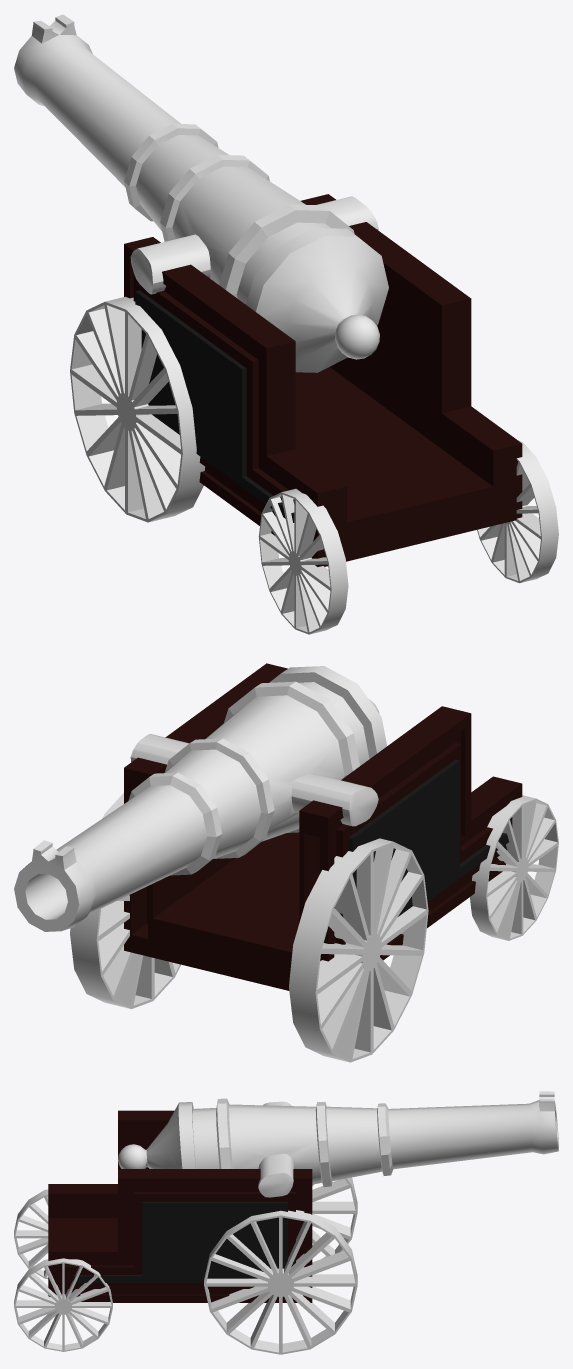
Rendered from Balista_5.fbx.
3 views of the same model, one above another, from view 1: azimuth 30°, elevation 25°; view 2: azimuth 150°, elevation 25°; view 3: azimuth 270°, elevation 25° (orthographic). The views are drawn at different scales.
Parts seen in each view (by area): view 1: Box001, Cylinder001, Cylinder003, Object002; view 2: Cylinder001, Cylinder003, Box001, Object002; view 3: Cylinder001, Cylinder003, Box001, Object002.
Part boxes in pixels (x1,y1,x2,y2): Box001: (124,194,522,566); Cylinder001: (14,14,388,372); Cylinder003: (70,296,558,634); Object002: (135,290,294,522); Cylinder001: (14,666,386,931); Cylinder003: (70,793,558,1062); Box001: (124,663,522,990); Object002: (348,759,508,916); Cylinder001: (118,1091,558,1197); Cylinder003: (14,1177,357,1354); Box001: (48,1110,312,1302); Object002: (73,1201,287,1282).
Bounding box in the file's own units: 30.8 × 38.36 × 86.93.
